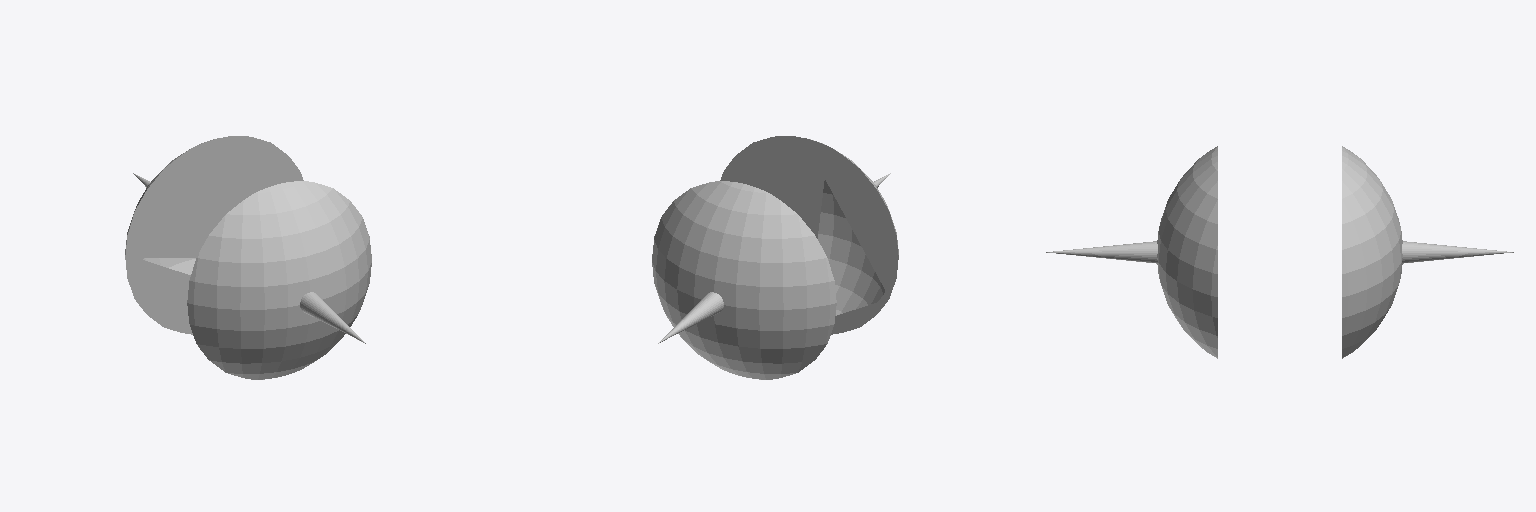
The model's file is SpikedChaosBivalv.obj.
3 views of the same model, side by side, from view 1: azimuth 30°, elevation 25°; view 2: azimuth 150°, elevation 25°; view 3: azimuth 270°, elevation 25° (orthographic).
Visible parts, largest first — view 1: Sphere, Cone.001; view 2: Sphere, Cone; view 3: Sphere, Cone, Cone.001.
Boxes of the visible parts, x1,y1,x2,y2 form: Sphere: [125, 136, 371, 379]; Cone.001: [300, 292, 365, 343]; Sphere: [652, 136, 898, 379]; Cone: [658, 292, 723, 343]; Sphere: [1157, 146, 1402, 358]; Cone: [1402, 241, 1513, 263]; Cone.001: [1046, 241, 1157, 263].
Size of the model in its own units: 1.86 by 1.72 by 3.8.